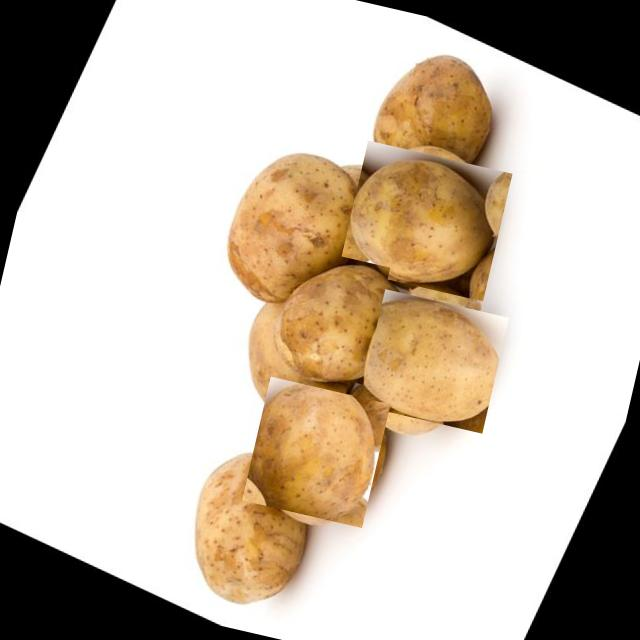potato: (341, 137, 509, 305), (348, 282, 504, 438), (242, 376, 391, 528), (268, 246, 389, 384)
